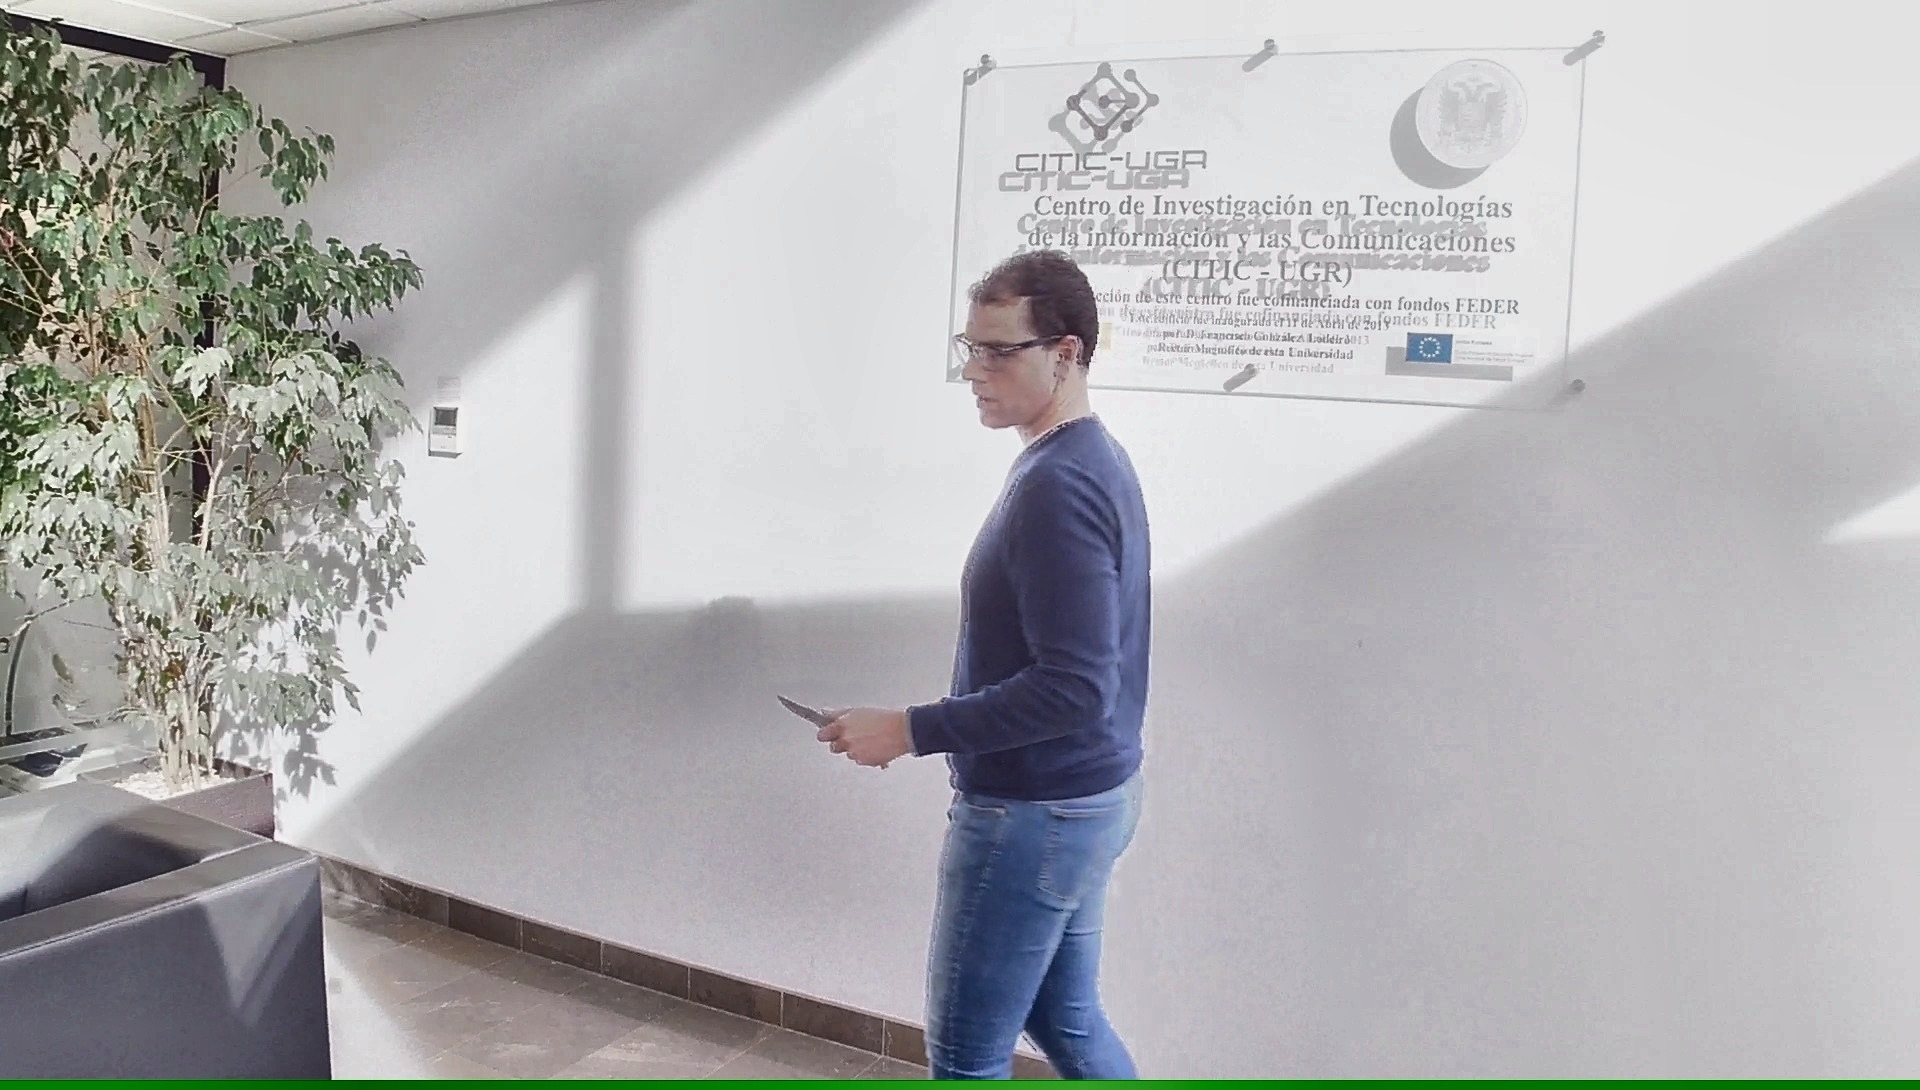knife: (767, 685, 893, 772)
